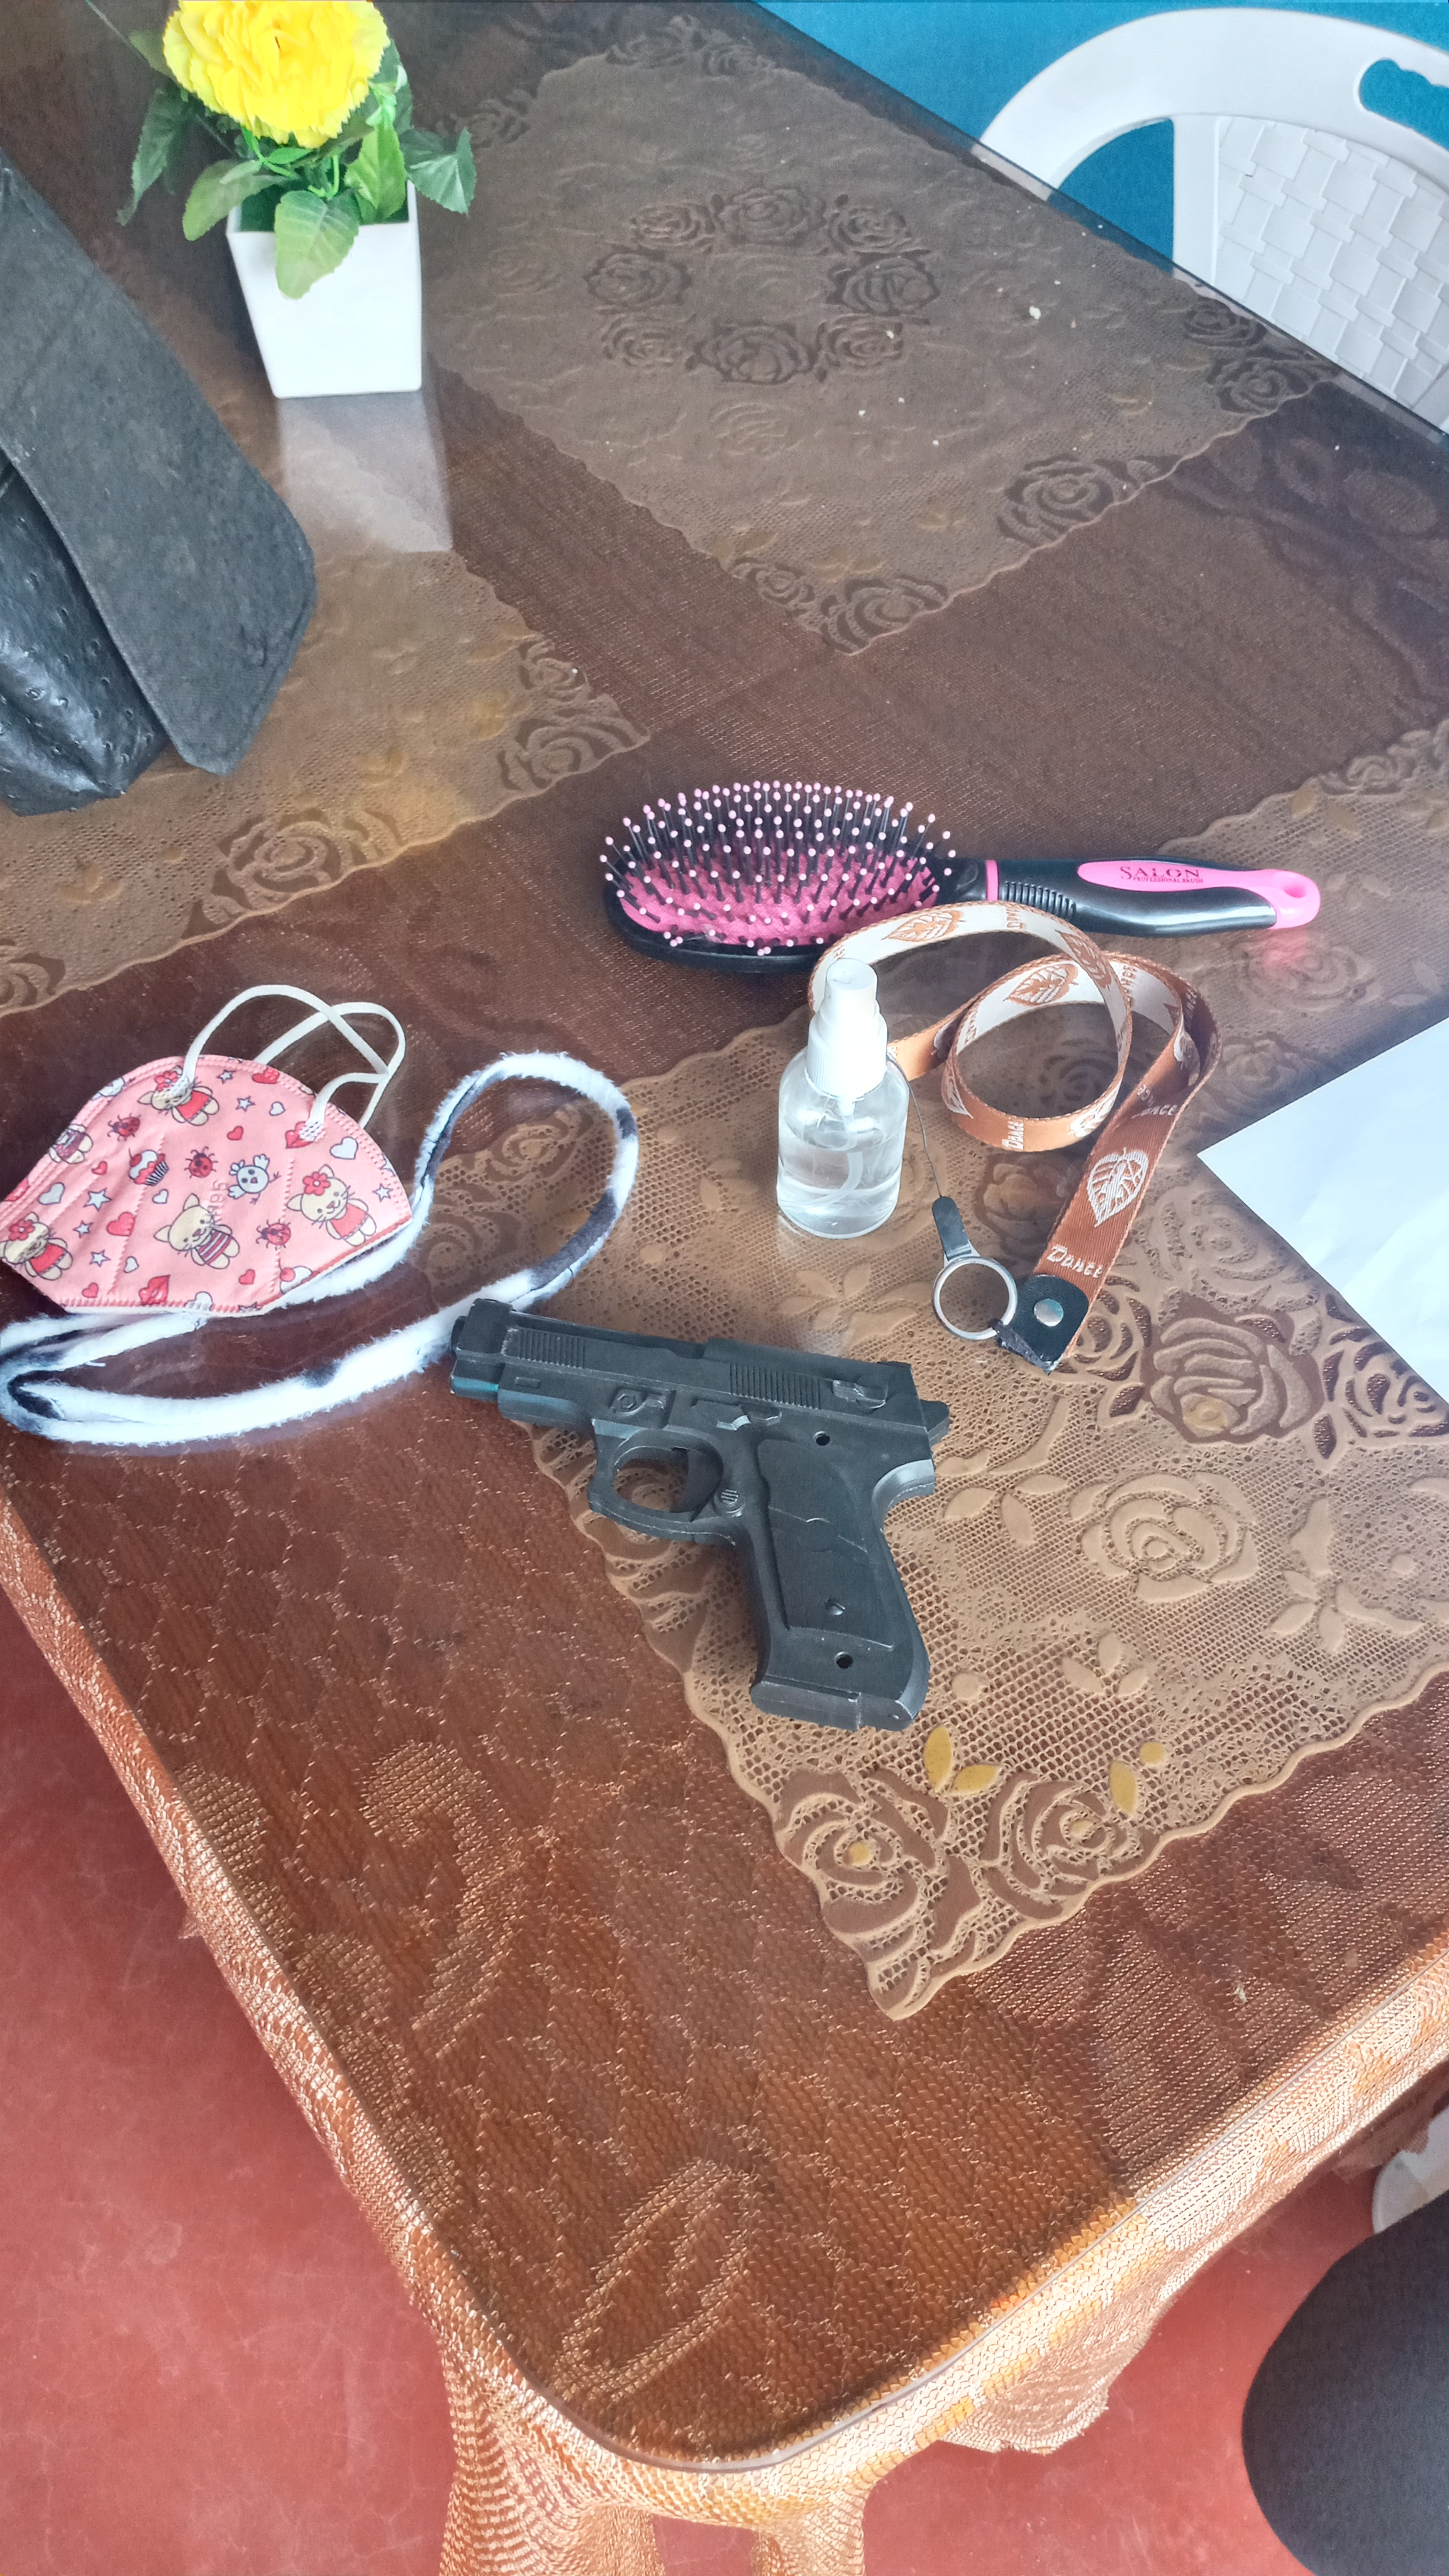Arma: (432, 1295, 962, 1583)
